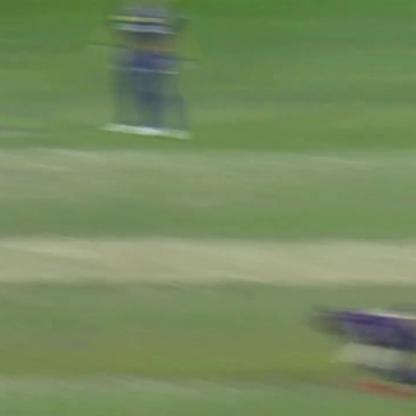pitch: (2, 224, 414, 298)
